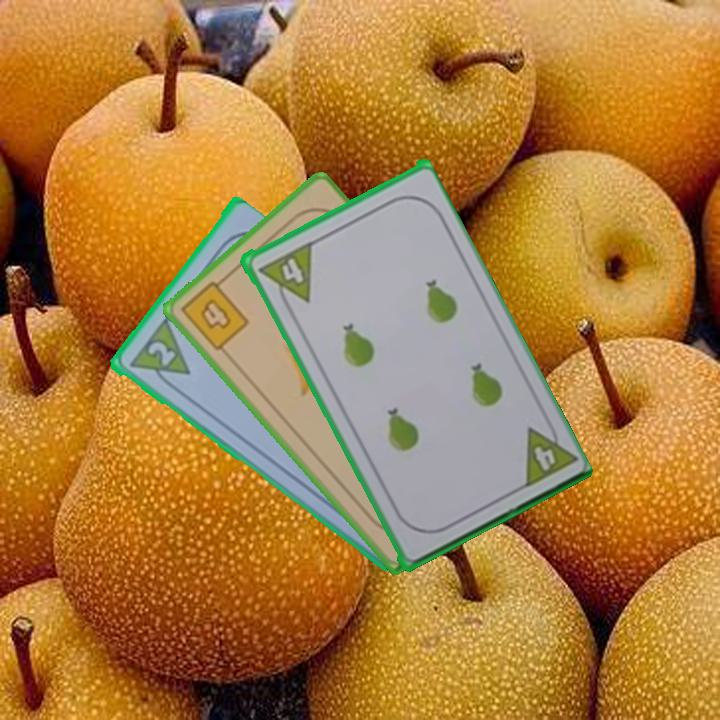2p: (124, 316, 193, 394)
4b: (177, 273, 252, 354)
4p: (273, 242, 315, 302), (529, 442, 558, 474)
